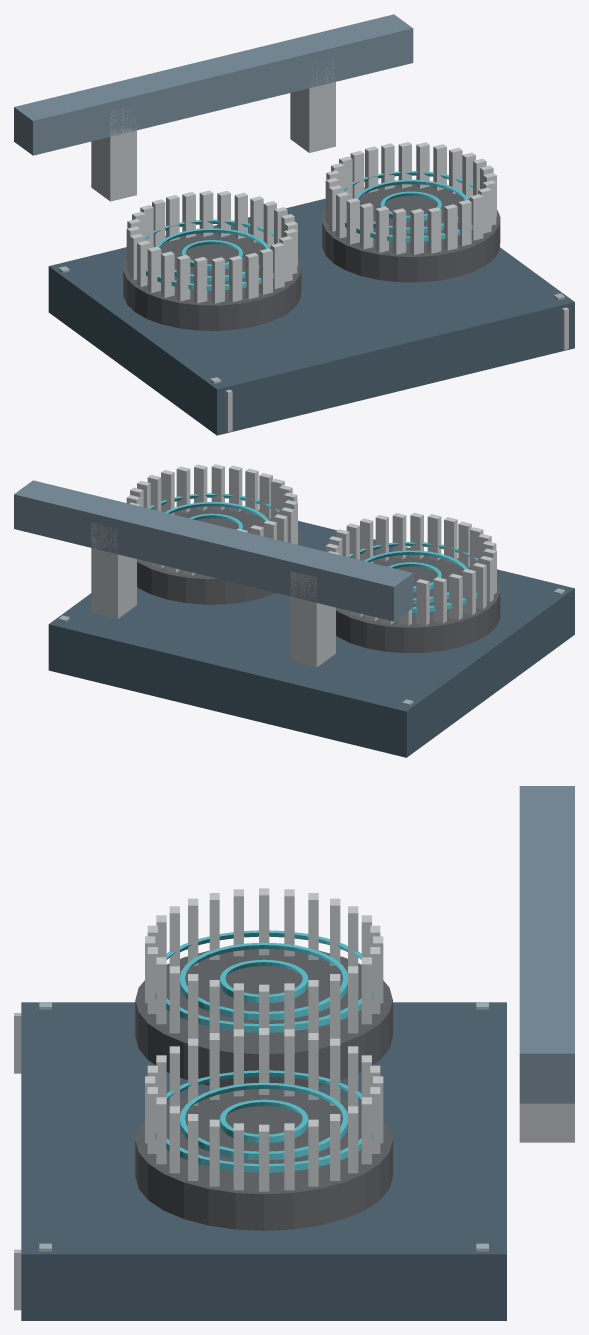
File: 41_L73_WaferBrushCleaningAssembly.glb
3 renders of one model, top to bottom at view 1: azimuth 30°, elevation 25°; view 2: azimuth 150°, elevation 25°; view 3: azimuth 270°, elevation 25°, orthographic. The views are drawn at different scales.
Parts seen in each view (by area): view 1: WaferBrushCleaningAssembly_Node_0000, WaferBrushCleaningAssembly_Node_0071, WaferBrushCleaningAssembly_Node_0007, WaferBrushCleaningAssembly_Node_0039, WaferBrushCleaningAssembly_Node_0072, WaferBrushCleaningAssembly_Node_0073, WaferBrushCleaningAssembly_Node_0037, WaferBrushCleaningAssembly_Node_0069, WaferBrushCleaningAssembly_Node_0050, WaferBrushCleaningAssembly_Node_0048, WaferBrushCleaningAssembly_Node_0019, WaferBrushCleaningAssembly_Node_0016 (+30 smaller); view 2: WaferBrushCleaningAssembly_Node_0000, WaferBrushCleaningAssembly_Node_0071, WaferBrushCleaningAssembly_Node_0007, WaferBrushCleaningAssembly_Node_0039, WaferBrushCleaningAssembly_Node_0072, WaferBrushCleaningAssembly_Node_0073, WaferBrushCleaningAssembly_Node_0026, WaferBrushCleaningAssembly_Node_0025, WaferBrushCleaningAssembly_Node_0024, WaferBrushCleaningAssembly_Node_0023, WaferBrushCleaningAssembly_Node_0014, WaferBrushCleaningAssembly_Node_0012 (+19 smaller); view 3: WaferBrushCleaningAssembly_Node_0000, WaferBrushCleaningAssembly_Node_0039, WaferBrushCleaningAssembly_Node_0071, WaferBrushCleaningAssembly_Node_0007, WaferBrushCleaningAssembly_Node_0037, WaferBrushCleaningAssembly_Node_0069, WaferBrushCleaningAssembly_Node_0073, WaferBrushCleaningAssembly_Node_0070, WaferBrushCleaningAssembly_Node_0038, WaferBrushCleaningAssembly_Node_0036, WaferBrushCleaningAssembly_Node_0068, WaferBrushCleaningAssembly_Node_0013 (+32 smaller).
Boxes of the visible parts, x1,y1,x2,y2 form: WaferBrushCleaningAssembly_Node_0000: [48, 198, 574, 435]; WaferBrushCleaningAssembly_Node_0071: [14, 14, 413, 155]; WaferBrushCleaningAssembly_Node_0007: [123, 232, 301, 330]; WaferBrushCleaningAssembly_Node_0039: [322, 184, 500, 282]; WaferBrushCleaningAssembly_Node_0072: [91, 105, 136, 201]; WaferBrushCleaningAssembly_Node_0073: [290, 60, 335, 152]; WaferBrushCleaningAssembly_Node_0037: [155, 228, 269, 281]; WaferBrushCleaningAssembly_Node_0069: [355, 179, 468, 233]; WaferBrushCleaningAssembly_Node_0050: [392, 208, 406, 254]; WaferBrushCleaningAssembly_Node_0048: [427, 207, 441, 253]; WaferBrushCleaningAssembly_Node_0019: [176, 255, 190, 301]; WaferBrushCleaningAssembly_Node_0016: [229, 255, 242, 302]; WaferBrushCleaningAssembly_Node_0000: [48, 521, 574, 757]; WaferBrushCleaningAssembly_Node_0071: [14, 480, 413, 621]; WaferBrushCleaningAssembly_Node_0007: [336, 555, 500, 653]; WaferBrushCleaningAssembly_Node_0039: [137, 506, 301, 604]; WaferBrushCleaningAssembly_Node_0072: [290, 571, 335, 667]; WaferBrushCleaningAssembly_Node_0073: [91, 522, 136, 618]; WaferBrushCleaningAssembly_Node_0026: [416, 579, 429, 625]; WaferBrushCleaningAssembly_Node_0025: [433, 577, 446, 623]; WaferBrushCleaningAssembly_Node_0024: [449, 573, 462, 619]; WaferBrushCleaningAssembly_Node_0023: [462, 568, 475, 615]; WaferBrushCleaningAssembly_Node_0014: [427, 514, 441, 560]; WaferBrushCleaningAssembly_Node_0012: [392, 513, 406, 559]; WaferBrushCleaningAssembly_Node_0000: [21, 1002, 506, 1320]; WaferBrushCleaningAssembly_Node_0039: [135, 1089, 392, 1230]; WaferBrushCleaningAssembly_Node_0071: [519, 786, 574, 1103]; WaferBrushCleaningAssembly_Node_0007: [135, 949, 392, 1087]; WaferBrushCleaningAssembly_Node_0037: [180, 942, 347, 1020]; WaferBrushCleaningAssembly_Node_0069: [180, 1082, 347, 1160]; WaferBrushCleaningAssembly_Node_0073: [519, 1103, 574, 1142]; WaferBrushCleaningAssembly_Node_0070: [155, 1070, 372, 1172]; WaferBrushCleaningAssembly_Node_0038: [155, 930, 372, 1032]; WaferBrushCleaningAssembly_Node_0036: [220, 959, 308, 1003]; WaferBrushCleaningAssembly_Node_0068: [220, 1099, 308, 1142]; WaferBrushCleaningAssembly_Node_0013: [156, 957, 166, 1024].
Bounding box in the file's own units: 1.72 × 0.825 × 1.52.
